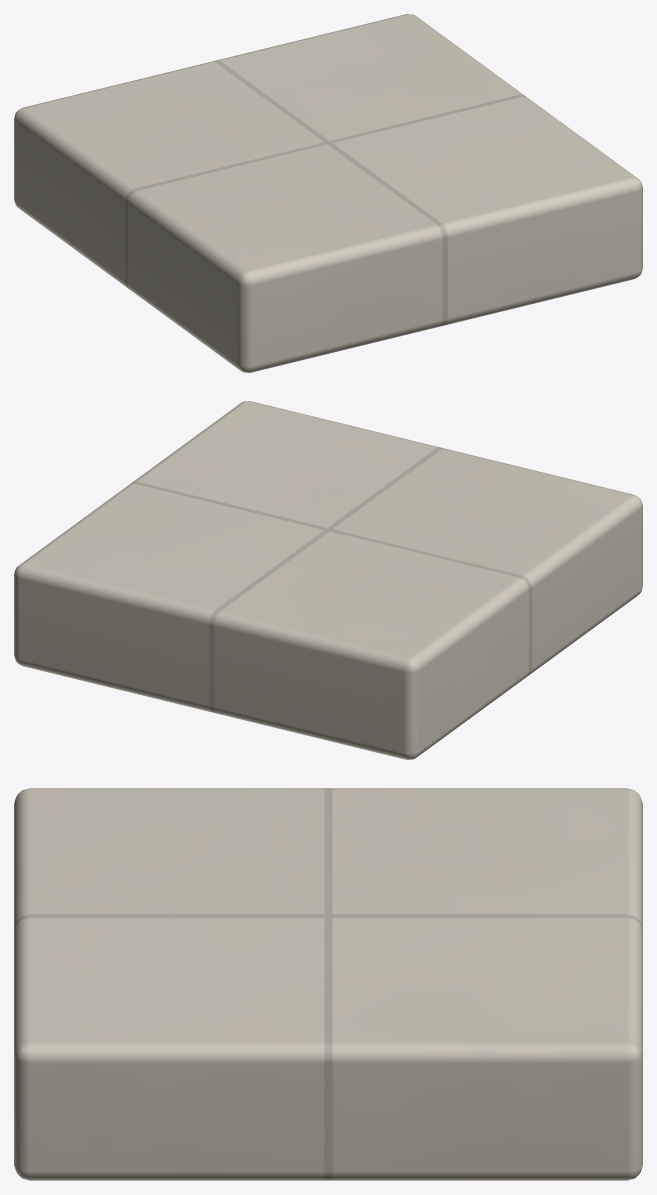
File: BG_ENV_SURFACE_FLOOR_001.glb
3 renders of one model, top to bottom at view 1: azimuth 30°, elevation 25°; view 2: azimuth 150°, elevation 25°; view 3: azimuth 270°, elevation 25°, orthographic. The views are drawn at different scales.
Visible parts, largest first — view 1: BG_ENV_SURFACE_FLOOR_001_mesh; view 2: BG_ENV_SURFACE_FLOOR_001_mesh; view 3: BG_ENV_SURFACE_FLOOR_001_mesh.
Boxes of the visible parts, x1,y1,x2,y2 form: BG_ENV_SURFACE_FLOOR_001_mesh: [14, 14, 642, 372]; BG_ENV_SURFACE_FLOOR_001_mesh: [14, 401, 642, 759]; BG_ENV_SURFACE_FLOOR_001_mesh: [14, 788, 642, 1180].
Bounding box in the file's own units: 1 × 0.24 × 1.
1 material, 1 textured.
